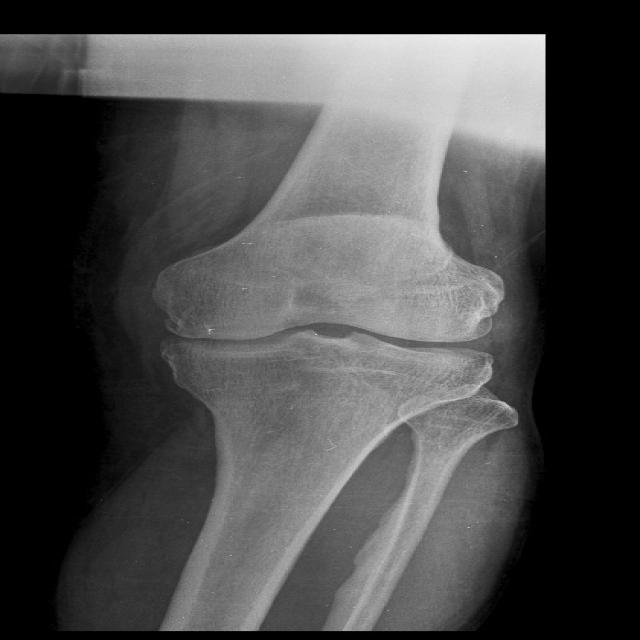osteo: (122, 240, 504, 395)
